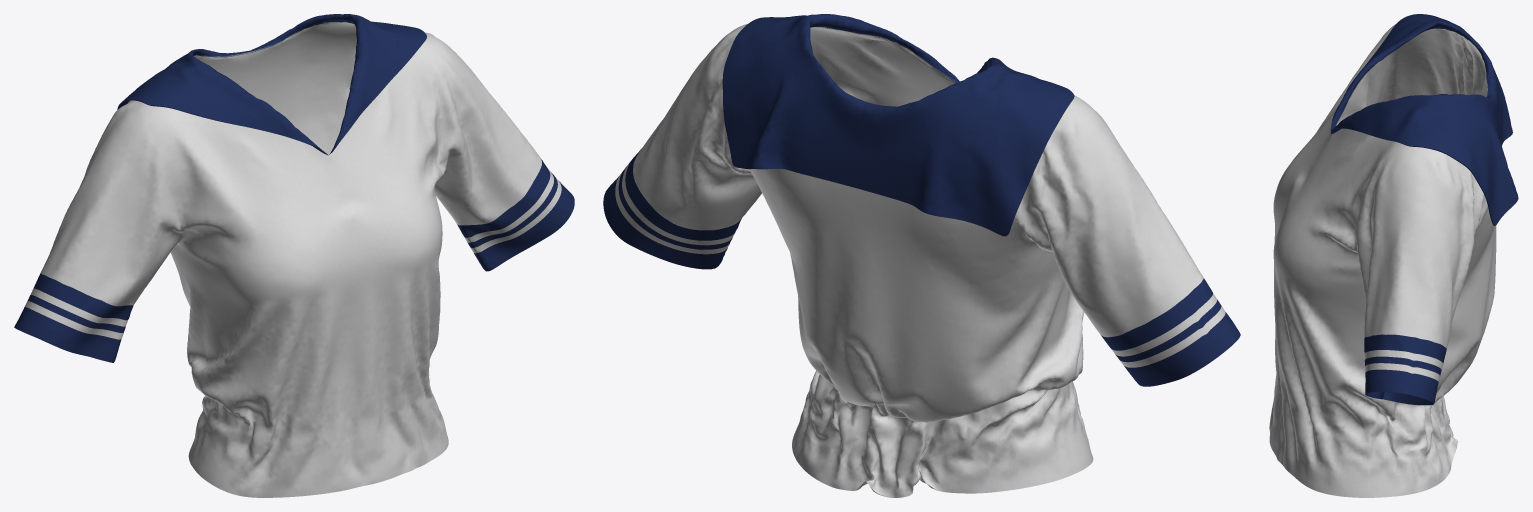
File: japanese-school-shirt.glb
3 renders of one model, left to right at view 1: azimuth 30°, elevation 25°; view 2: azimuth 150°, elevation 25°; view 3: azimuth 270°, elevation 25°, orthographic. The views are drawn at different scales.
Parts seen in each view (by area): view 1: japanese-shirt-part-2-from-node-4, japanese-shirt-part-3-from-node-5, japanese-shirt-part-1-from-node-3; view 2: japanese-shirt-part-1-from-node-3, japanese-shirt-part-2-from-node-4, japanese-shirt-part-3-from-node-5; view 3: japanese-shirt-part-2-from-node-4, japanese-shirt-part-1-from-node-3, japanese-shirt-part-3-from-node-5.
Boxes of the visible parts, x1,y1,x2,y2 form: japanese-shirt-part-2-from-node-4: (24, 32, 561, 497); japanese-shirt-part-3-from-node-5: (14, 14, 574, 362); japanese-shirt-part-1-from-node-3: (117, 22, 356, 465); japanese-shirt-part-1-from-node-3: (716, 27, 1072, 497); japanese-shirt-part-2-from-node-4: (615, 24, 1225, 496); japanese-shirt-part-3-from-node-5: (603, 14, 1240, 386); japanese-shirt-part-2-from-node-4: (1269, 24, 1495, 497); japanese-shirt-part-1-from-node-3: (1335, 28, 1496, 497); japanese-shirt-part-3-from-node-5: (1330, 14, 1518, 405).
Bounding box in the file's own units: 0.6514 × 0.4535 × 0.262.
Materials: 2 (2 with a texture image).
